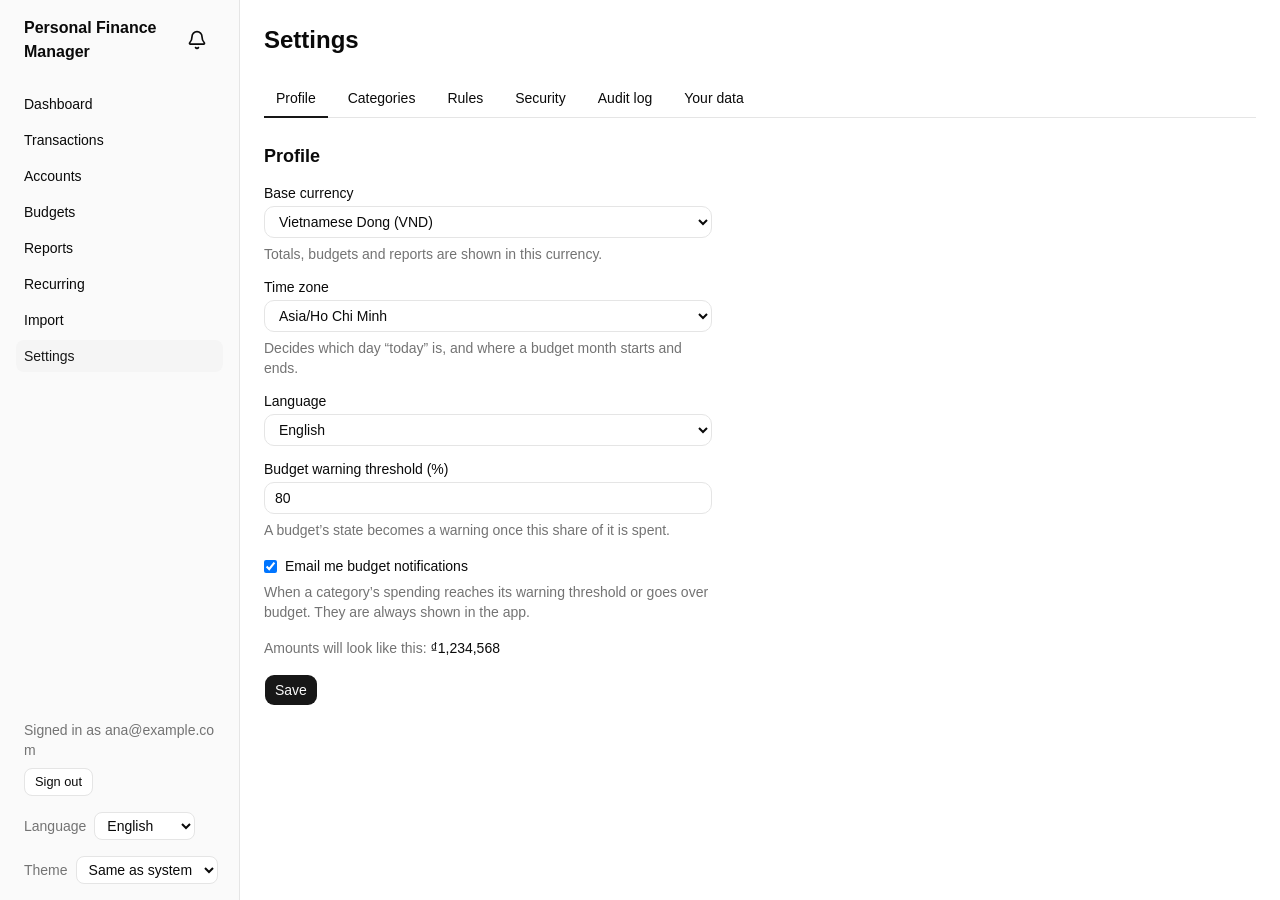
it: profile settings › show the budget notifications a lower warning threshold raises once it is saved
The image size is (1280, 900).
expect the button named "Budget notifications" is shown: met, box top-left (179, 22), bottom-right (215, 58)
Replace the text in the number field labelled "Budget warning threshold (%)" with "60" at (488, 498), box top-left (264, 482), bottom-right (712, 514)
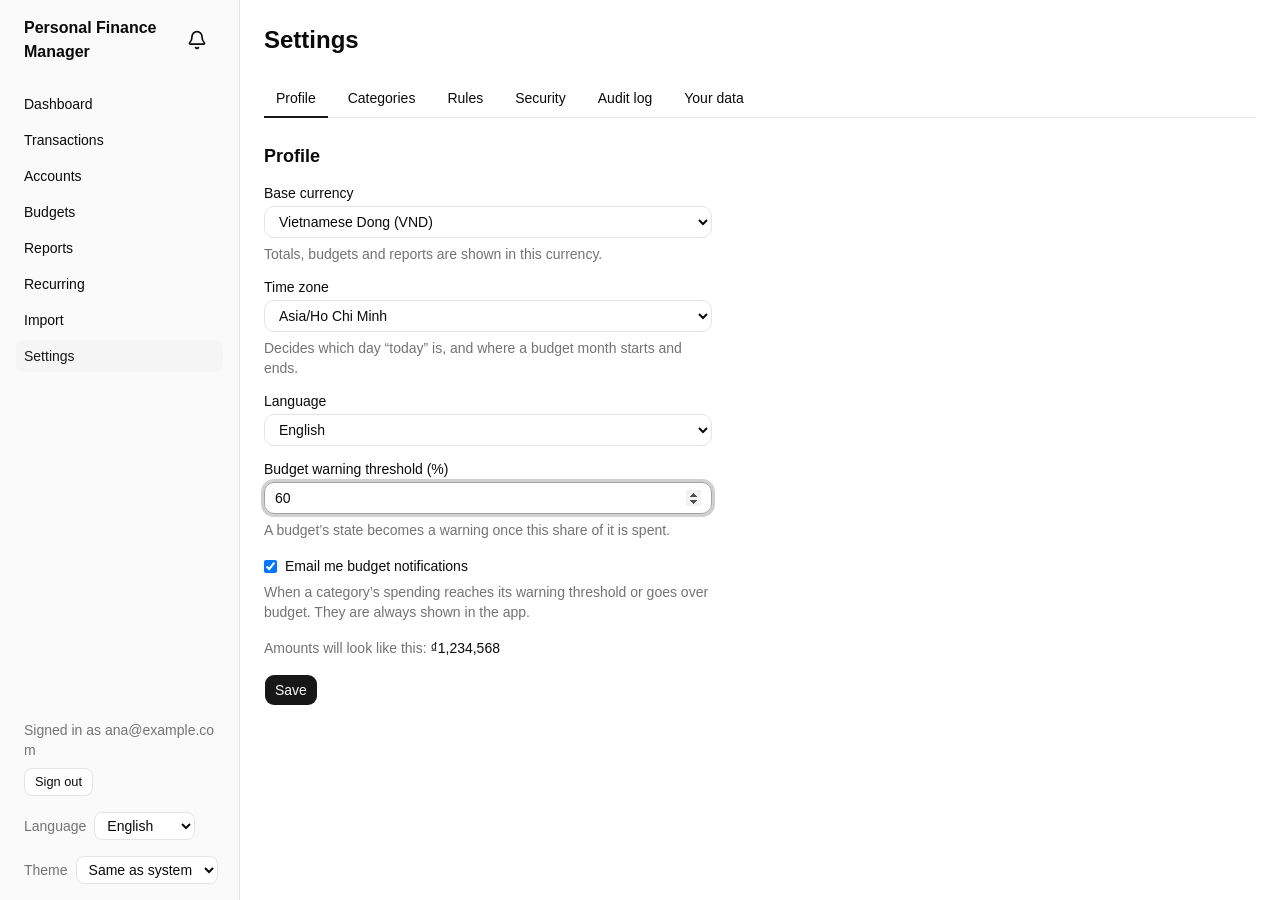
Click the button "Save" at (291, 690), box top-left (264, 674), bottom-right (318, 706)
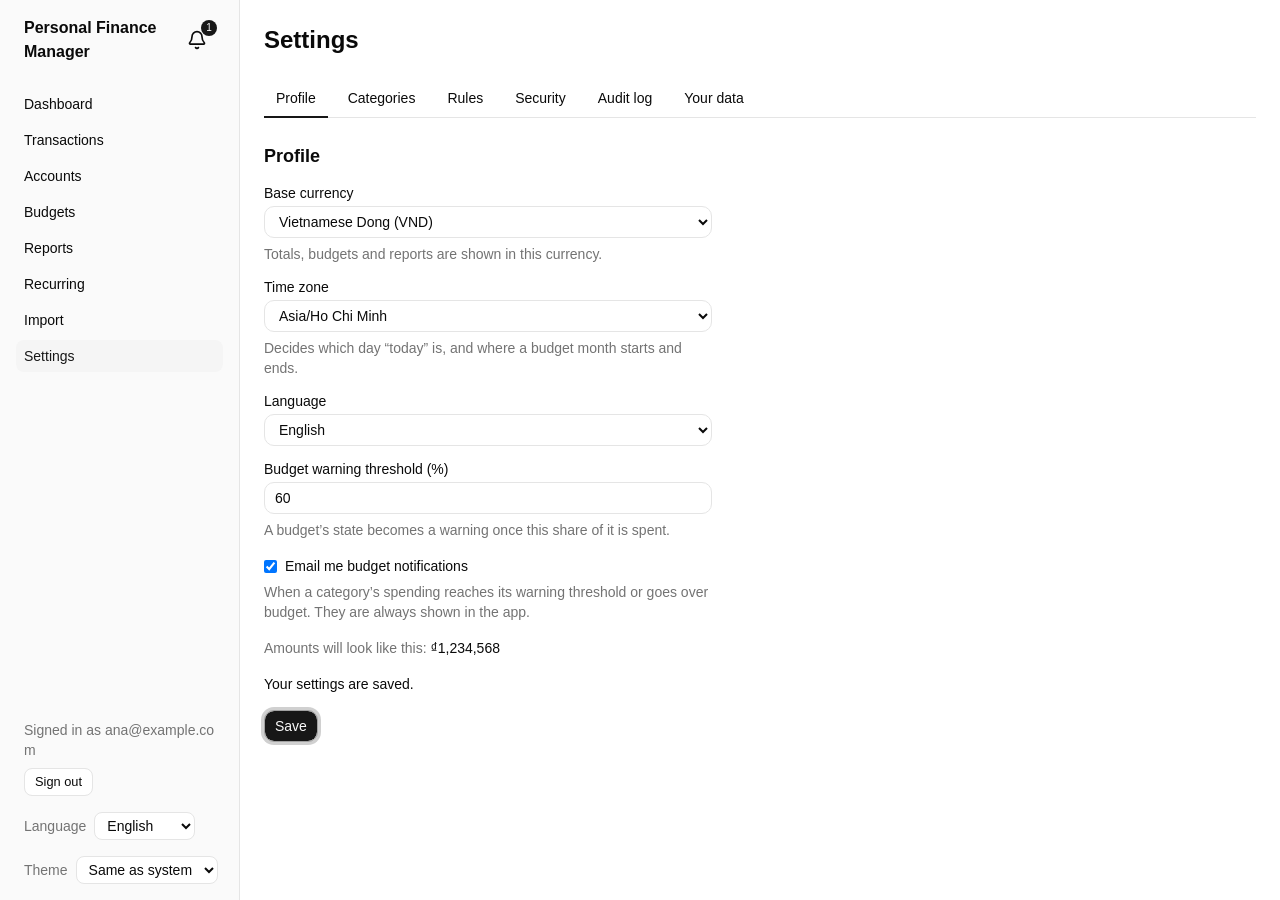
expect the button named "Budget notifications, 1 unread" is shown: met, box top-left (179, 22), bottom-right (215, 58)
